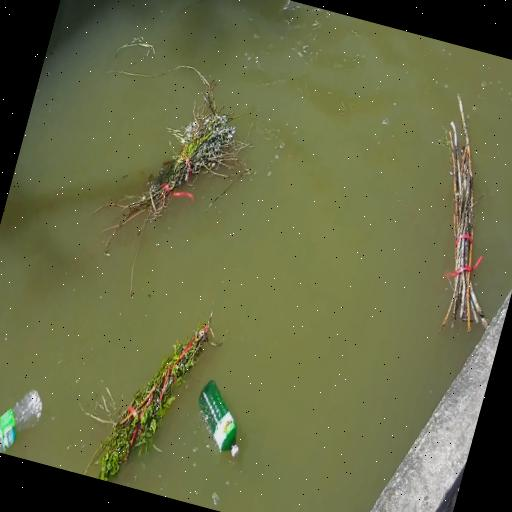plastic: (182, 374, 258, 468), (0, 374, 49, 460)
twig: (111, 65, 256, 272), (395, 88, 512, 337), (80, 288, 214, 496)
